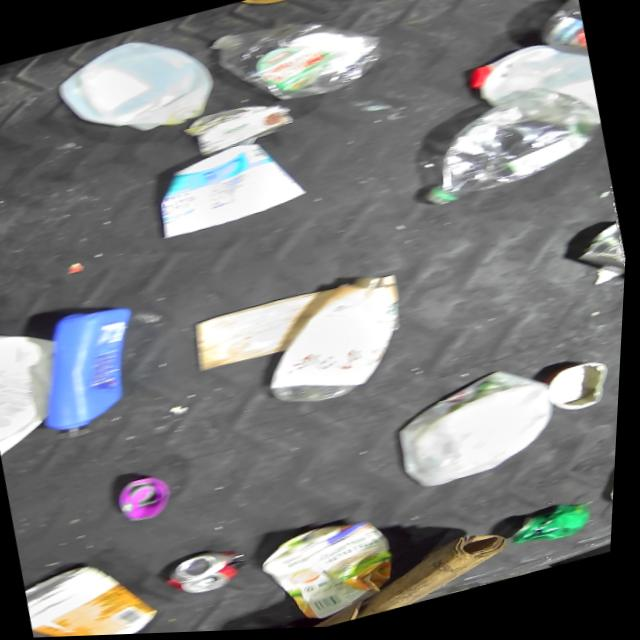can: (182, 93, 300, 166), (165, 537, 266, 607), (544, 356, 625, 428), (507, 497, 602, 556), (572, 217, 630, 301)
milk_jug: (383, 362, 570, 505), (52, 18, 223, 152), (462, 35, 606, 160), (0, 299, 84, 463)
non_white_jug: (23, 289, 161, 447)
plastic_bottle: (396, 76, 612, 216), (192, 0, 393, 125)
